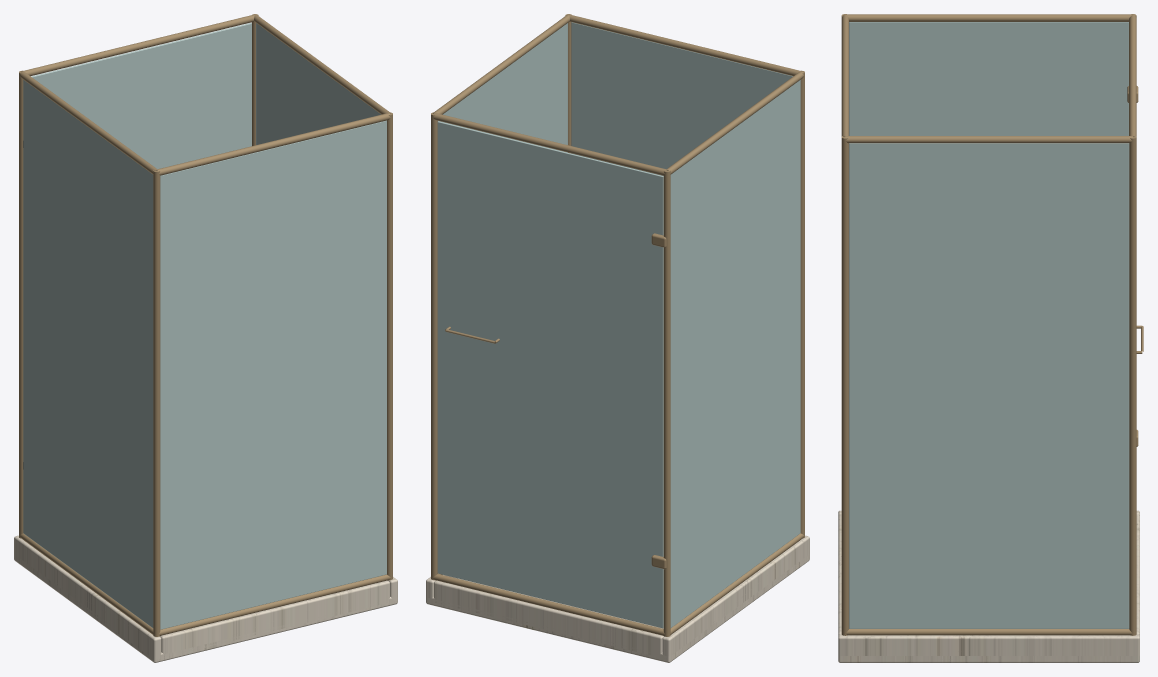
The model's file is bath-shower-enclosure.glb.
The picture shows the model from 3 angles, left to right: view 1: azimuth 30°, elevation 25°; view 2: azimuth 150°, elevation 25°; view 3: azimuth 270°, elevation 25°; orthographic projection. The views are drawn at different scales.
Parts seen in each view (by area): view 1: glass_surfaces, bronze_surfaces, stone_surfaces; view 2: glass_surfaces, bronze_surfaces, stone_surfaces; view 3: glass_surfaces, bronze_surfaces, stone_surfaces.
Boxes of the visible parts, x1,y1,x2,y2 form: glass_surfaces: (23, 23, 386, 629); bronze_surfaces: (19, 14, 392, 636); stone_surfaces: (14, 535, 397, 662); glass_surfaces: (437, 22, 800, 628); bronze_surfaces: (431, 14, 804, 636); stone_surfaces: (426, 535, 809, 662); glass_surfaces: (849, 22, 1129, 628); bronze_surfaces: (841, 14, 1143, 635); stone_surfaces: (838, 510, 1139, 662).
Bounding box in the file's own units: 1.05 × 2.01 × 1.06.
Materials: 5 (1 with a texture image).
